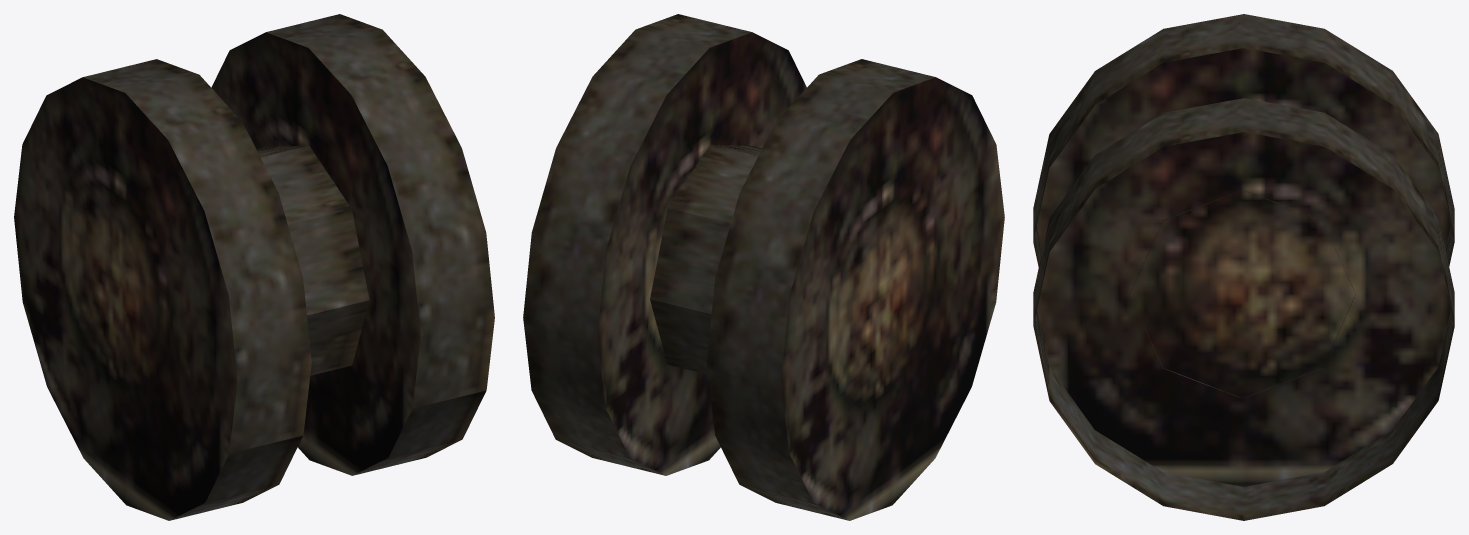
The model's file is Roller.fbx.
3 renders of one model, left to right at view 1: azimuth 30°, elevation 25°; view 2: azimuth 150°, elevation 25°; view 3: azimuth 270°, elevation 25°, orthographic. The views are drawn at different scales.
Visible parts, largest first — view 1: Roller; view 2: Roller; view 3: Roller.
Boxes of the visible parts, bbox=[...] form: Roller: bbox=[14, 14, 494, 520]; Roller: bbox=[523, 14, 1004, 520]; Roller: bbox=[1033, 14, 1454, 520].
Bounding box in the file's own units: 20.1 × 30.71 × 30.16.
